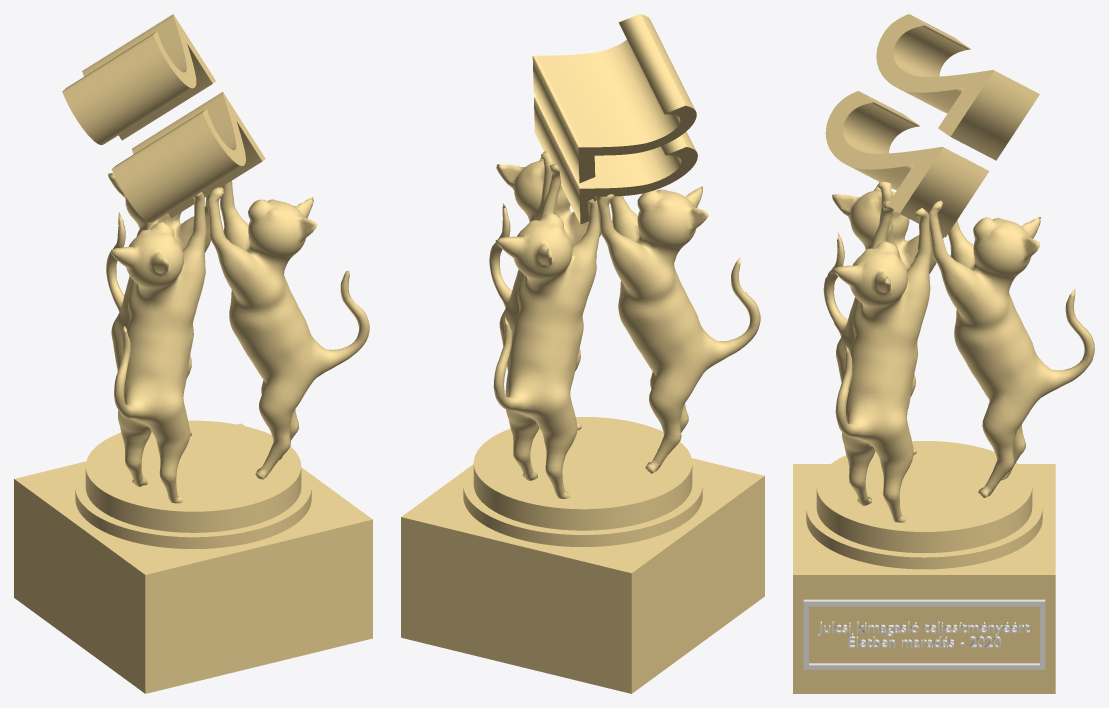
The model's file is julcsi.glb.
The picture shows the model from 3 angles, left to right: view 1: azimuth 30°, elevation 25°; view 2: azimuth 150°, elevation 25°; view 3: azimuth 270°, elevation 25°; orthographic projection.
Parts seen in each view (by area): view 1: Cube, 22, julia, julia.002, Cylinder.001, Cylinder, julia.001; view 2: Cube, 22, julia.001, julia.002, Cylinder.001, Cylinder, julia; view 3: Cube, 22, julia.001, julia, Cylinder.001, Cylinder, julia.002, Cube.001, Text.
Boxes of the visible parts, x1,y1,x2,y2 form: Cube: (14, 423, 372, 693); 22: (62, 14, 265, 222); julia: (207, 181, 369, 479); julia.002: (111, 192, 206, 503); Cylinder.001: (85, 420, 301, 532); Cylinder: (75, 467, 311, 548); julia.001: (106, 173, 210, 436); Cube: (401, 458, 764, 693); 22: (532, 14, 697, 224); julia.001: (493, 164, 600, 498); julia.002: (597, 186, 760, 473); Cylinder.001: (473, 417, 692, 530); Cylinder: (463, 464, 702, 546); julia: (489, 151, 609, 430); Cube: (793, 464, 1055, 693); 22: (825, 14, 1039, 237); julia.001: (929, 200, 1094, 497); julia: (833, 200, 931, 522); Cylinder.001: (816, 441, 1032, 552); Cylinder: (806, 487, 1042, 569); julia.002: (823, 181, 943, 455); Cube.001: (803, 599, 1045, 669); Text: (818, 621, 1029, 647).
Size of the model in its own units: 2.28 by 5.05 by 2.3.
